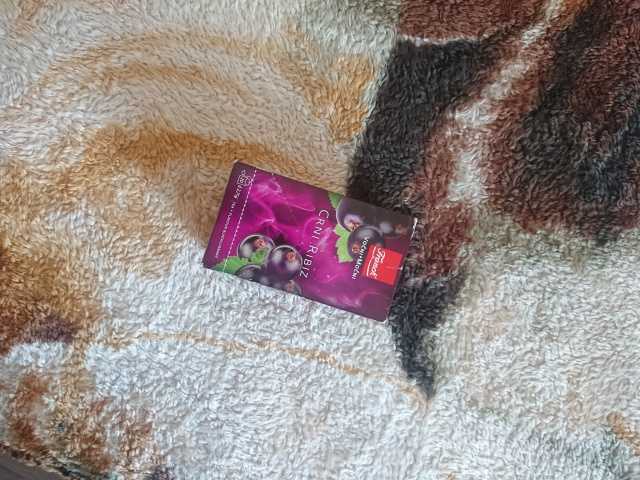Franck Black Currant Tea 60g: (196, 156, 420, 326)
